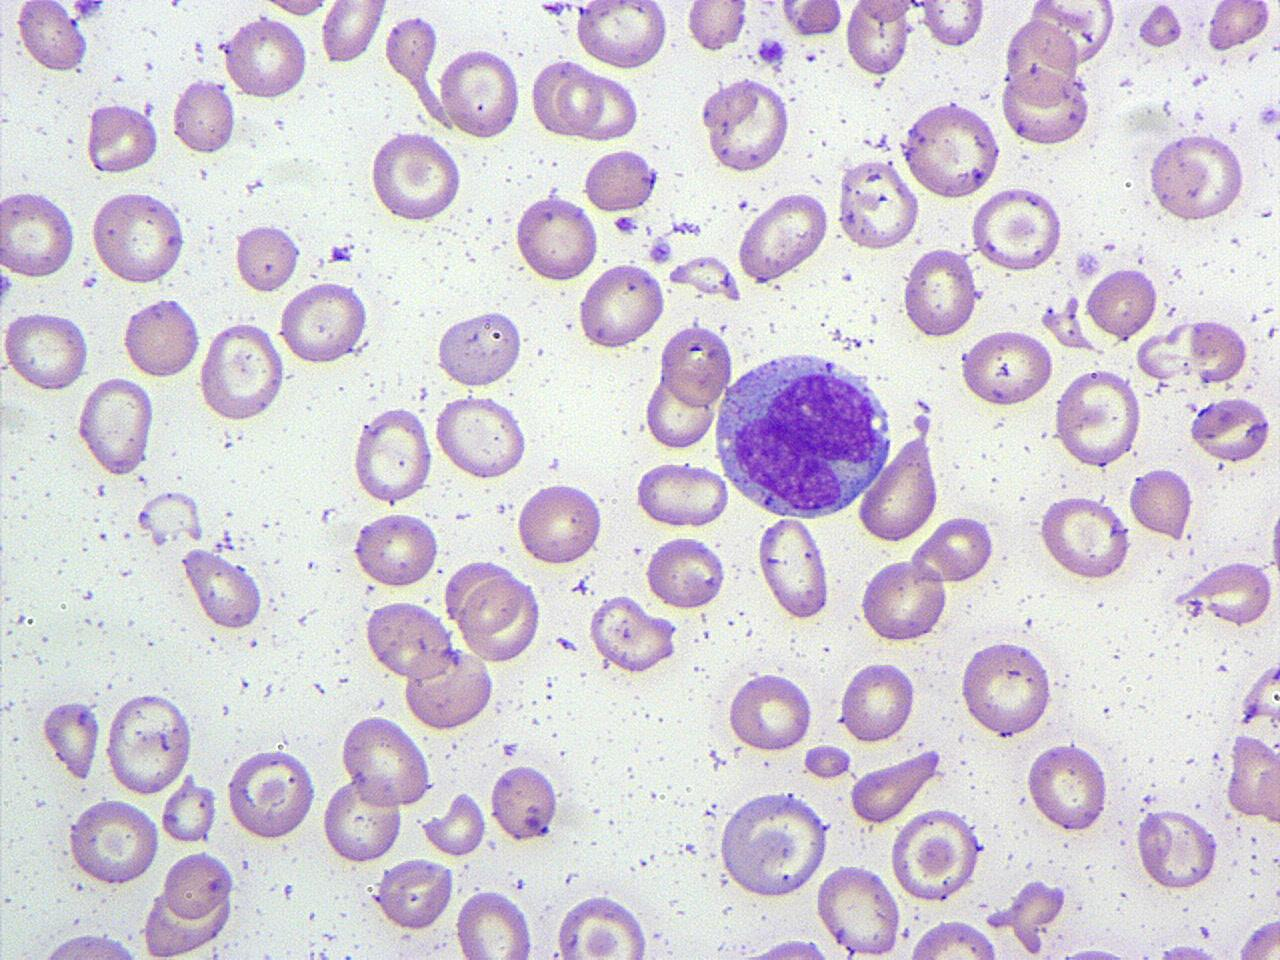Platelets: (1137, 5, 1183, 50), (756, 36, 788, 67), (1073, 248, 1103, 279), (69, 1, 106, 21), (647, 238, 674, 265), (1255, 102, 1279, 130), (670, 218, 704, 237), (612, 214, 641, 236), (552, 634, 580, 656), (537, 3, 568, 18), (328, 243, 352, 262), (1256, 205, 1278, 222), (571, 576, 591, 594), (501, 740, 522, 756), (1198, 923, 1212, 938), (643, 222, 654, 236)
RBC: (717, 789, 829, 900), (898, 98, 1004, 201), (87, 187, 188, 286), (959, 637, 1055, 739), (855, 432, 941, 545), (196, 318, 286, 424), (1052, 367, 1144, 470), (1147, 130, 1247, 224), (103, 693, 194, 795), (700, 75, 792, 175), (368, 129, 464, 224), (338, 713, 433, 808), (736, 190, 831, 284), (432, 391, 530, 482), (888, 806, 980, 902), (1036, 492, 1134, 582), (225, 746, 316, 842), (967, 186, 1065, 275), (351, 403, 434, 507), (65, 796, 160, 886), (575, 260, 667, 352), (276, 279, 370, 368), (401, 644, 496, 732), (834, 155, 920, 252), (815, 861, 902, 956), (756, 514, 832, 622), (77, 374, 155, 479), (859, 552, 948, 644), (438, 45, 522, 142), (514, 478, 604, 568), (320, 772, 406, 866), (998, 65, 1094, 148), (512, 193, 599, 284), (1025, 740, 1109, 834), (959, 327, 1055, 409), (456, 576, 543, 664), (1, 308, 90, 394), (435, 306, 524, 391), (223, 12, 307, 102), (0, 186, 78, 282), (586, 594, 678, 675), (180, 545, 266, 631), (726, 670, 814, 754), (1175, 557, 1277, 629), (352, 508, 441, 590), (902, 244, 978, 340), (362, 600, 453, 680), (1135, 806, 1219, 892), (634, 458, 730, 530), (122, 294, 202, 380), (1004, 16, 1080, 106), (644, 532, 728, 612), (573, 0, 669, 69), (848, 748, 934, 825), (659, 323, 735, 410), (838, 660, 916, 744), (554, 894, 652, 960), (1186, 392, 1274, 465), (376, 855, 456, 931), (530, 58, 604, 139), (1026, 0, 1116, 66), (1084, 264, 1162, 340), (453, 886, 533, 960), (15, 0, 90, 76), (642, 374, 716, 451), (488, 762, 559, 842), (915, 514, 995, 584), (171, 73, 237, 157), (1224, 726, 1280, 824), (84, 101, 158, 175), (162, 848, 234, 922), (1128, 463, 1196, 541), (582, 146, 659, 214), (844, 0, 911, 78), (233, 220, 302, 295), (41, 697, 100, 781), (572, 68, 638, 143), (422, 789, 488, 857), (158, 772, 216, 845), (1188, 316, 1250, 384), (320, 1, 384, 66), (668, 250, 744, 304), (138, 489, 206, 549), (905, 918, 1001, 959), (383, 10, 438, 81), (916, 0, 986, 51), (1204, 0, 1272, 52), (31, 931, 150, 960), (686, 0, 748, 54), (781, 0, 845, 38), (1138, 2, 1184, 51), (803, 740, 854, 782), (1235, 913, 1279, 960), (254, 0, 338, 21), (1152, 938, 1232, 960)
WBC: (711, 346, 894, 520), (718, 790, 832, 898), (701, 75, 792, 180)
